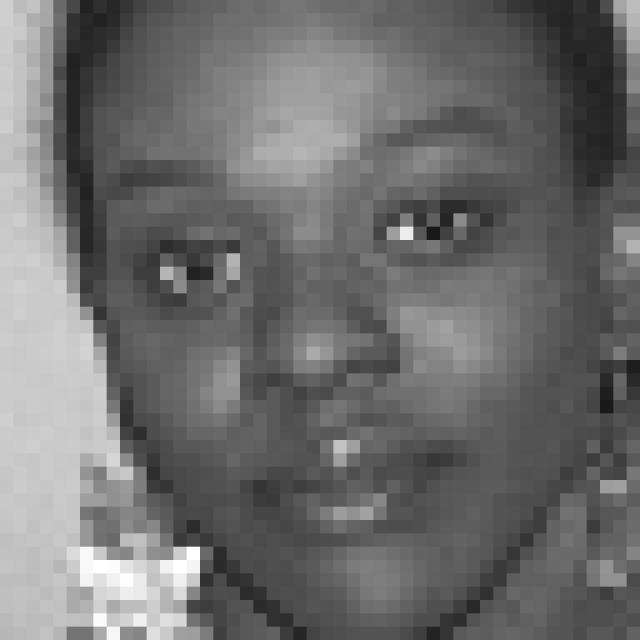neutral: (106, 103, 519, 552)
